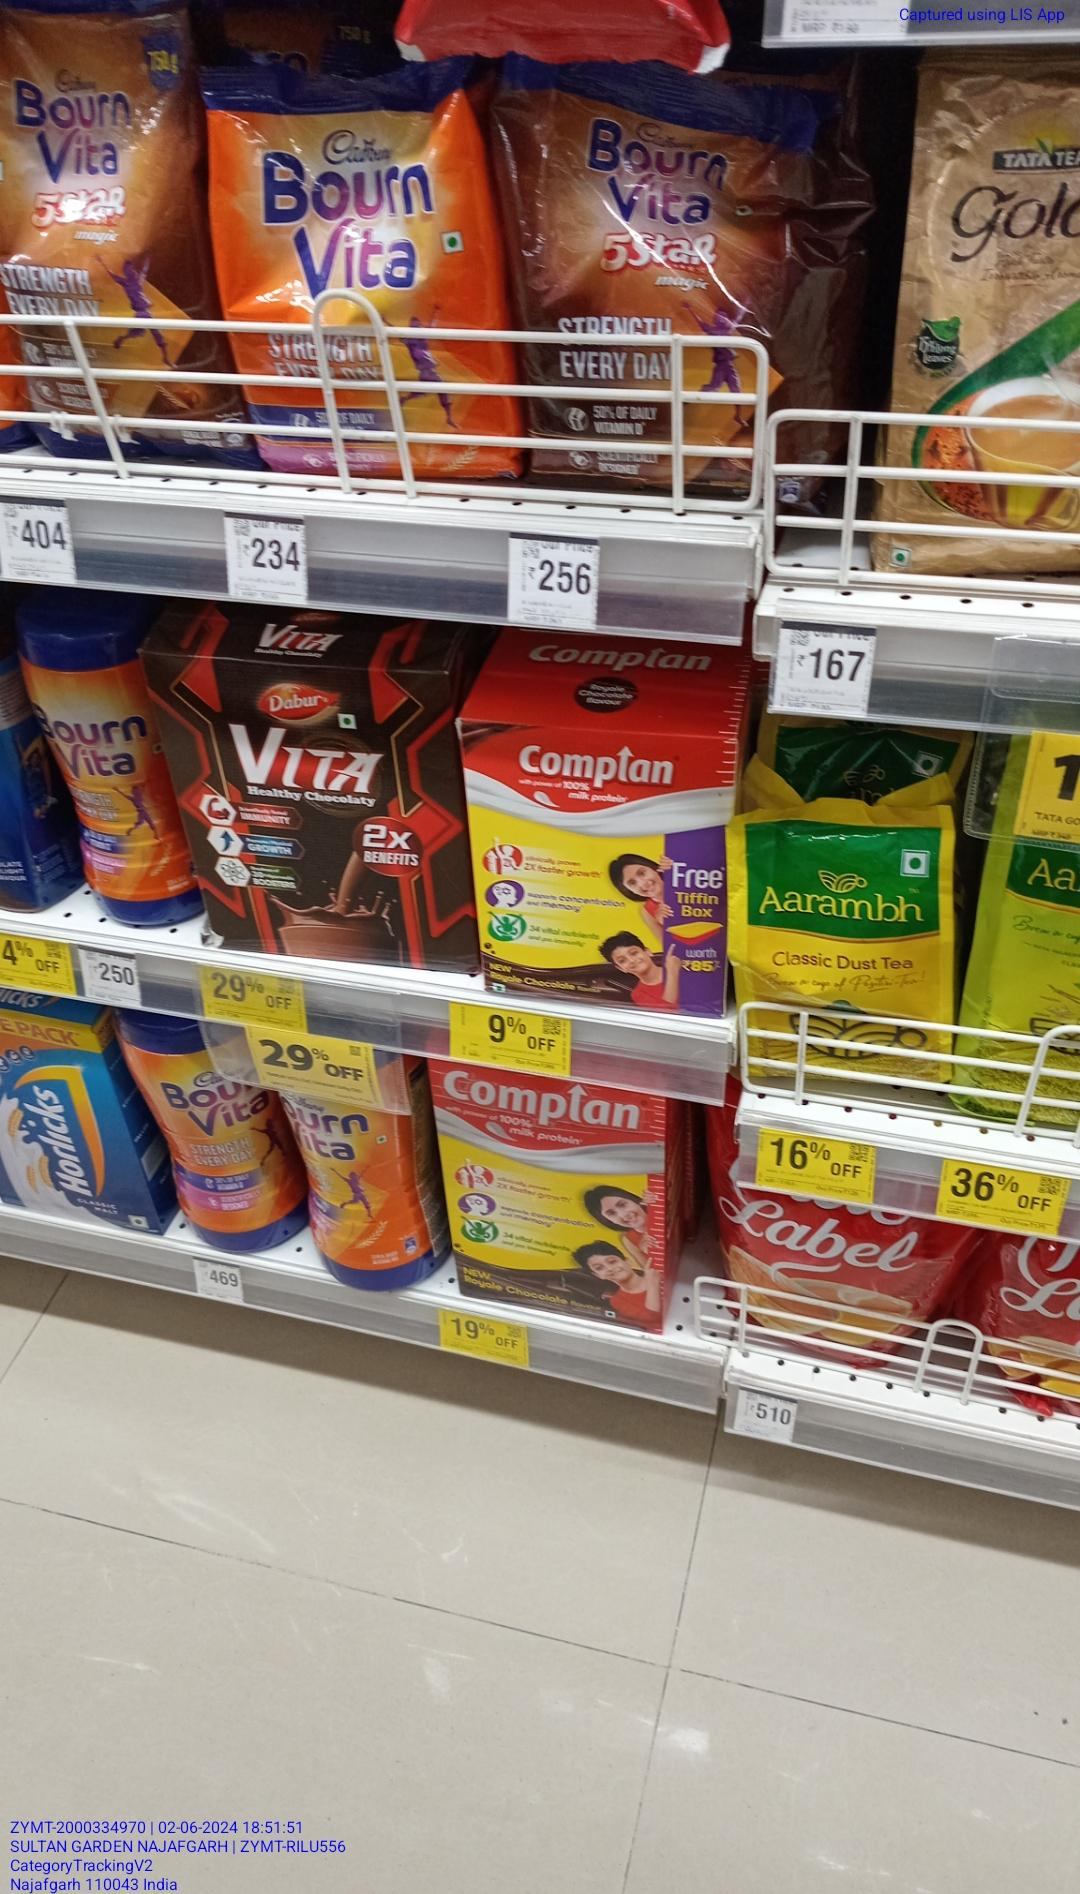BOURN_VITA_500_G_POUCH: (215, 90, 500, 498)
BOURN_VITA_FIVE_STAR_MAGIC_500_G_POUCH: (511, 61, 843, 500)
BOURN_VITA_FIVE_STAR_MAGIC_750_G_POUCH: (1, 7, 195, 458)
